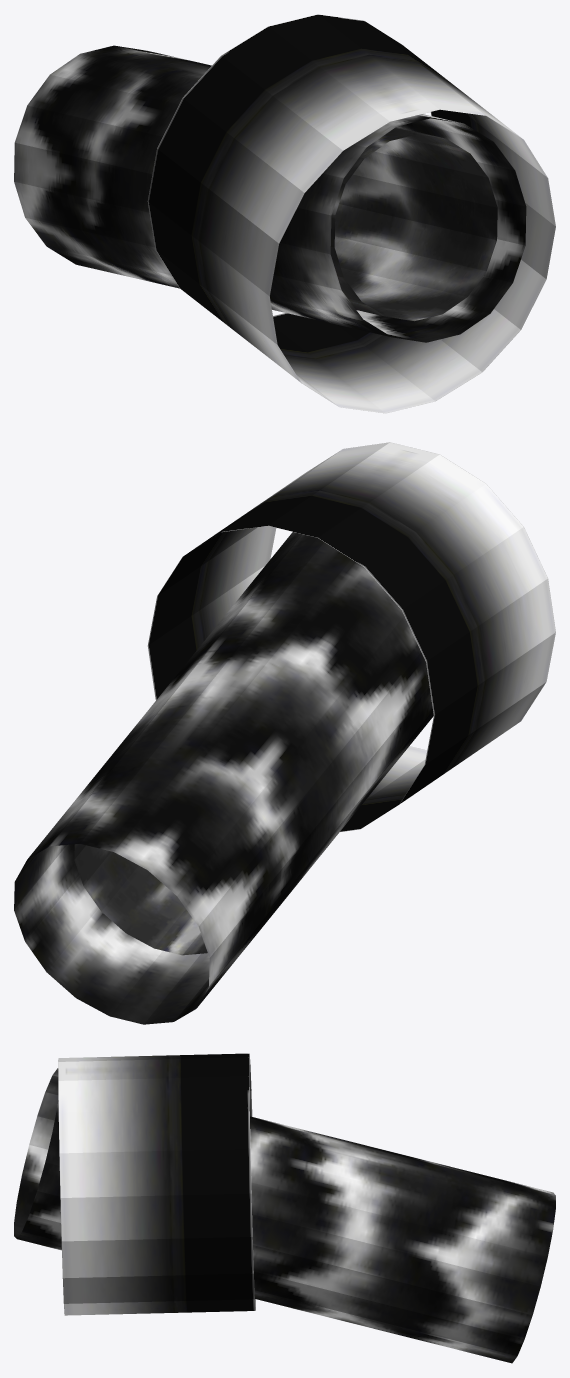
The model's file is effect_xinglingjinhua_donghua.fbx.
3 renders of one model, top to bottom at view 1: azimuth 30°, elevation 25°; view 2: azimuth 150°, elevation 25°; view 3: azimuth 270°, elevation 25°, orthographic. The views are drawn at different scales.
Visible parts, largest first — view 1: effect_yuan_103_mo (1), effect_yuan_103_mo_UP, effect_yuan_103_mo (2); view 2: effect_yuan_103_mo_UP, effect_yuan_103_mo (1), effect_yuan_103_mo (2); view 3: effect_yuan_103_mo_UP, effect_yuan_103_mo (1).
Part boxes in pixels (x1,y1,x2,y2): effect_yuan_103_mo (1): (147, 14, 555, 413); effect_yuan_103_mo_UP: (14, 45, 526, 342); effect_yuan_103_mo (2): (330, 127, 497, 321); effect_yuan_103_mo_UP: (14, 532, 433, 1024); effect_yuan_103_mo (1): (147, 442, 555, 831); effect_yuan_103_mo (2): (74, 844, 207, 955); effect_yuan_103_mo_UP: (14, 1068, 555, 1363); effect_yuan_103_mo (1): (58, 1053, 255, 1315).
Size of the model in its own units: 3.56 by 4.37 by 7.47.
